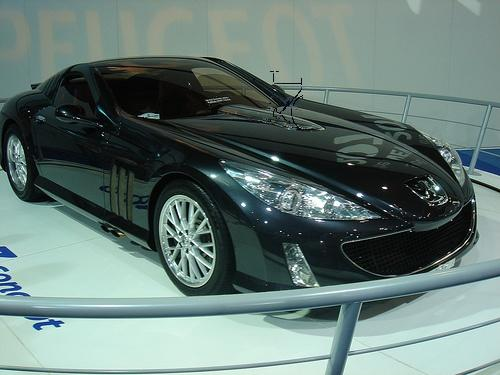tampered: (270, 72, 303, 130)
